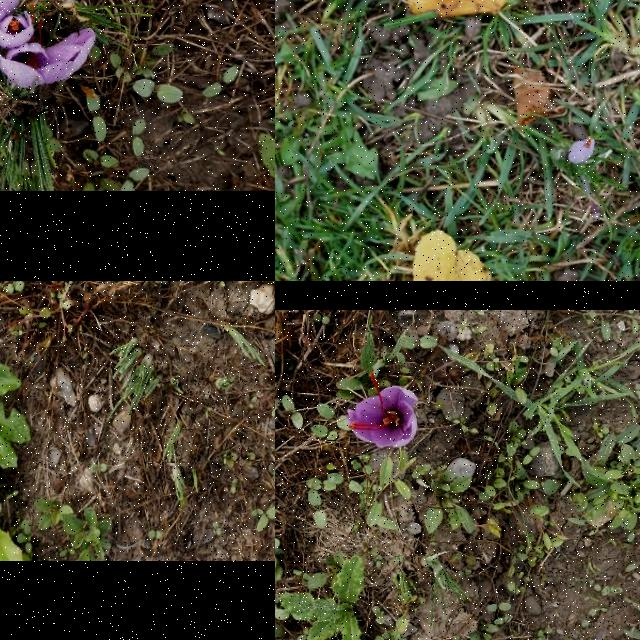flower: (0, 3, 95, 89), (346, 372, 419, 448), (0, 11, 37, 48), (568, 137, 596, 165)
